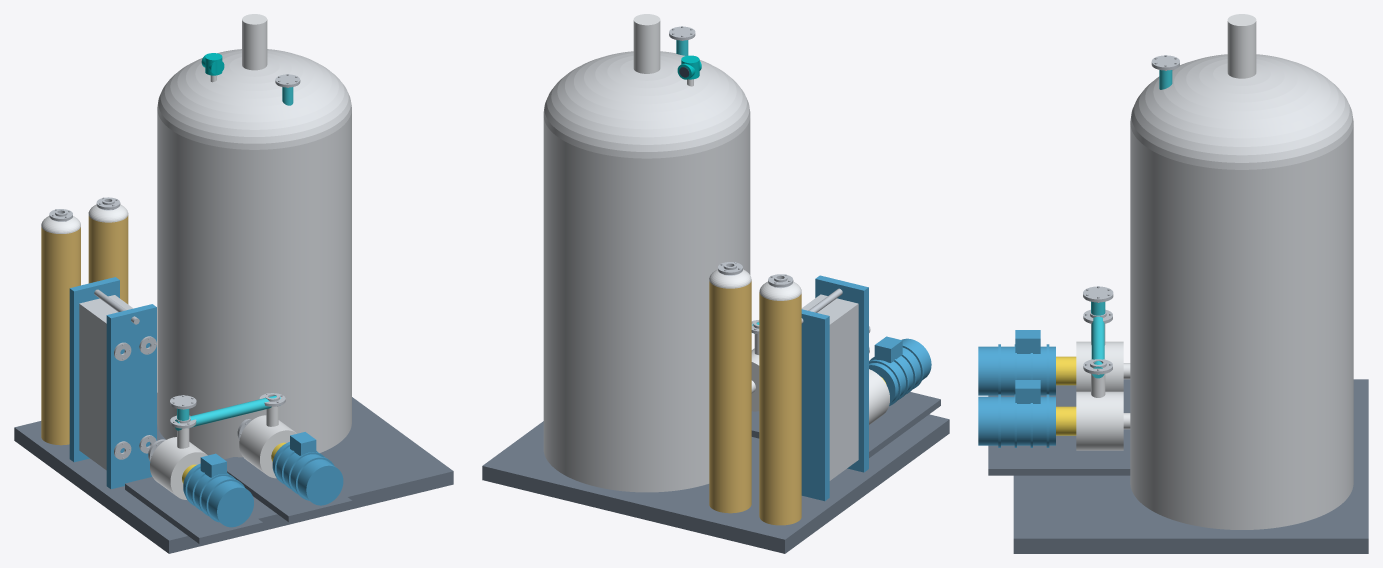
The model's file is WTR-600_Pure_Water_Treatment.glb.
3 views of the same model, side by side, from view 1: azimuth 30°, elevation 25°; view 2: azimuth 150°, elevation 25°; view 3: azimuth 270°, elevation 25° (orthographic). The views are drawn at different scales.
Parts seen in each view (by area): view 1: WTR-600_002__TK601_3000L_DI_Storage_Tank__SS304_SATIN, WTR-600_003__TK601_Top_2to1_Dome__SS304_SATIN, WTR-600_001__WTR600_Skid_Baseplate__STRUCTURAL_SLATE_IS800, WTR-600_070__HEX601_Follower_Plate__MOTOR_IEC_BLUE, WTR-600_078__IX601A_MixedBed_Polisher_A__RESIN_AMBER, WTR-600_071__HEX601_Titanium_Chevron_Pack__TITANIUM_GRADE2, WTR-600_017__P601A_Duty_DI_Circulation_Pump_Baseplate__STRUC, WTR-600_038__P601B_Standby_DI_Circulation_Pump_Baseplate__ST, WTR-600_086__IX601B_MixedBed_Polisher_B__RESIN_AMBER, WTR-600_069__HEX601_Fixed_Frame_Plate__MOTOR_IEC_BLUE, WTR-600_035__P601A_Duty_DI_Circulation_Pump_DriveMotor__MOTO, WTR-600_056__P601B_Standby_DI_Circulation_Pump_DriveMotor__M (+7 smaller); view 2: WTR-600_002__TK601_3000L_DI_Storage_Tank__SS304_SATIN, WTR-600_003__TK601_Top_2to1_Dome__SS304_SATIN, WTR-600_001__WTR600_Skid_Baseplate__STRUCTURAL_SLATE_IS800, WTR-600_078__IX601A_MixedBed_Polisher_A__RESIN_AMBER, WTR-600_086__IX601B_MixedBed_Polisher_B__RESIN_AMBER, WTR-600_069__HEX601_Fixed_Frame_Plate__MOTOR_IEC_BLUE, WTR-600_071__HEX601_Titanium_Chevron_Pack__TITANIUM_GRADE2, WTR-600_070__HEX601_Follower_Plate__MOTOR_IEC_BLUE, WTR-600_017__P601A_Duty_DI_Circulation_Pump_Baseplate__STRUC, WTR-600_035__P601A_Duty_DI_Circulation_Pump_DriveMotor__MOTO, WTR-600_004__TK601_HEPA_CO2_Scrubber_Vent__SS316L_POLISHED, WTR-600_018__P601A_Duty_DI_Circulation_Pump_Volute__SS316L_P (+4 smaller); view 3: WTR-600_002__TK601_3000L_DI_Storage_Tank__SS304_SATIN, WTR-600_001__WTR600_Skid_Baseplate__STRUCTURAL_SLATE_IS800, WTR-600_003__TK601_Top_2to1_Dome__SS304_SATIN, WTR-600_038__P601B_Standby_DI_Circulation_Pump_Baseplate__ST, WTR-600_056__P601B_Standby_DI_Circulation_Pump_DriveMotor__M, WTR-600_035__P601A_Duty_DI_Circulation_Pump_DriveMotor__MOTO, WTR-600_039__P601B_Standby_DI_Circulation_Pump_Volute__SS316, WTR-600_004__TK601_HEPA_CO2_Scrubber_Vent__SS316L_POLISHED, WTR-600_018__P601A_Duty_DI_Circulation_Pump_Volute__SS316L_P, WTR-600_017__P601A_Duty_DI_Circulation_Pump_Baseplate__STRUC, WTR-600_059__DI_Pump_Discharge_Manifold__PIPING_DI_CYAN, WTR-600_057__P601B_Standby_DI_Circulation_Pump_MotorFin__MOT (+5 smaller).
Part boxes in pixels (bbox=[...]): WTR-600_002__TK601_3000L_DI_Storage_Tank__SS304_SATIN: bbox=[157, 110, 351, 459]; WTR-600_003__TK601_Top_2to1_Dome__SS304_SATIN: bbox=[157, 49, 351, 149]; WTR-600_001__WTR600_Skid_Baseplate__STRUCTURAL_SLATE_IS800: bbox=[14, 393, 453, 553]; WTR-600_070__HEX601_Follower_Plate__MOTOR_IEC_BLUE: bbox=[106, 304, 156, 489]; WTR-600_078__IX601A_MixedBed_Polisher_A__RESIN_AMBER: bbox=[41, 227, 80, 445]; WTR-600_071__HEX601_Titanium_Chevron_Pack__TITANIUM_GRADE2: bbox=[79, 295, 133, 470]; WTR-600_017__P601A_Duty_DI_Circulation_Pump_Baseplate__STRUC: bbox=[125, 477, 262, 543]; WTR-600_038__P601B_Standby_DI_Circulation_Pump_Baseplate__ST: bbox=[224, 457, 352, 522]; WTR-600_086__IX601B_MixedBed_Polisher_B__RESIN_AMBER: bbox=[88, 215, 128, 304]; WTR-600_069__HEX601_Fixed_Frame_Plate__MOTOR_IEC_BLUE: bbox=[69, 277, 119, 462]; WTR-600_035__P601A_Duty_DI_Circulation_Pump_DriveMotor__MOTO: bbox=[183, 463, 253, 527]; WTR-600_056__P601B_Standby_DI_Circulation_Pump_DriveMotor__M: bbox=[272, 442, 343, 505]; WTR-600_002__TK601_3000L_DI_Storage_Tank__SS304_SATIN: bbox=[543, 118, 750, 492]; WTR-600_003__TK601_Top_2to1_Dome__SS304_SATIN: bbox=[543, 51, 750, 158]; WTR-600_001__WTR600_Skid_Baseplate__STRUCTURAL_SLATE_IS800: bbox=[482, 414, 949, 553]; WTR-600_078__IX601A_MixedBed_Polisher_A__RESIN_AMBER: bbox=[759, 292, 801, 525]; WTR-600_086__IX601B_MixedBed_Polisher_B__RESIN_AMBER: bbox=[709, 281, 751, 513]; WTR-600_069__HEX601_Fixed_Frame_Plate__MOTOR_IEC_BLUE: bbox=[801, 309, 829, 501]; WTR-600_071__HEX601_Titanium_Chevron_Pack__TITANIUM_GRADE2: bbox=[801, 294, 858, 480]; WTR-600_070__HEX601_Follower_Plate__MOTOR_IEC_BLUE: bbox=[815, 275, 868, 472]; WTR-600_017__P601A_Duty_DI_Circulation_Pump_Baseplate__STRUC: bbox=[869, 392, 940, 457]; WTR-600_035__P601A_Duty_DI_Circulation_Pump_DriveMotor__MOTO: bbox=[869, 338, 931, 403]; WTR-600_004__TK601_HEPA_CO2_Scrubber_Vent__SS316L_POLISHED: bbox=[633, 14, 660, 73]; WTR-600_018__P601A_Duty_DI_Circulation_Pump_Volute__SS316L_P: bbox=[869, 369, 889, 424]; WTR-600_002__TK601_3000L_DI_Storage_Tank__SS304_SATIN: bbox=[1130, 125, 1353, 529]; WTR-600_001__WTR600_Skid_Baseplate__STRUCTURAL_SLATE_IS800: bbox=[1013, 379, 1368, 553]; WTR-600_003__TK601_Top_2to1_Dome__SS304_SATIN: bbox=[1130, 54, 1353, 169]; WTR-600_038__P601B_Standby_DI_Circulation_Pump_Baseplate__ST: bbox=[988, 433, 1130, 475]; WTR-600_056__P601B_Standby_DI_Circulation_Pump_DriveMotor__M: bbox=[978, 396, 1055, 445]; WTR-600_035__P601A_Duty_DI_Circulation_Pump_DriveMotor__MOTO: bbox=[978, 346, 1055, 395]; WTR-600_039__P601B_Standby_DI_Circulation_Pump_Volute__SS316: bbox=[1076, 391, 1123, 450]; WTR-600_004__TK601_HEPA_CO2_Scrubber_Vent__SS316L_POLISHED: bbox=[1227, 14, 1256, 78]; WTR-600_018__P601A_Duty_DI_Circulation_Pump_Volute__SS316L_P: bbox=[1076, 341, 1123, 391]; WTR-600_017__P601A_Duty_DI_Circulation_Pump_Baseplate__STRUC: bbox=[988, 383, 1130, 412]; WTR-600_059__DI_Pump_Discharge_Manifold__PIPING_DI_CYAN: bbox=[1091, 316, 1104, 378]; WTR-600_057__P601B_Standby_DI_Circulation_Pump_MotorFin__MOT: bbox=[998, 394, 1049, 447].
Size of the model in its own units: 2.23 by 3.12 by 2.31.
